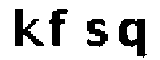f: (47, 6, 70, 48)
k: (10, 6, 45, 48)
q: (116, 16, 150, 60)
s: (82, 17, 109, 50)
